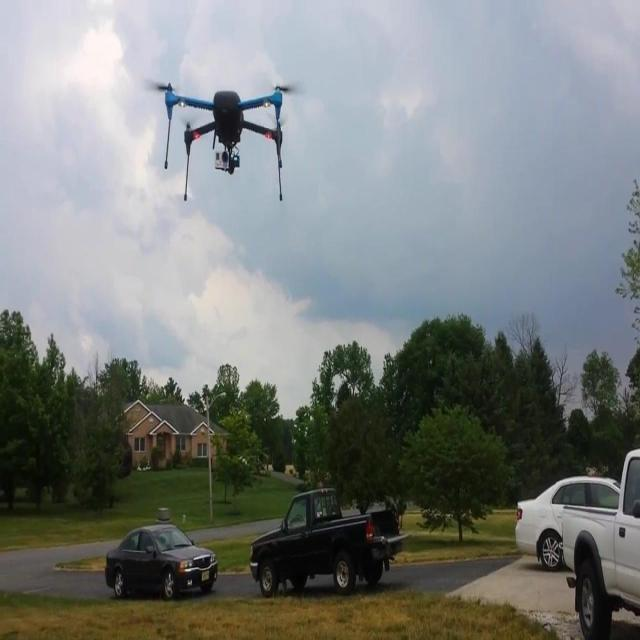drone: (144, 75, 300, 207)
